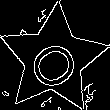O_NE: (21, 27, 86, 91)
